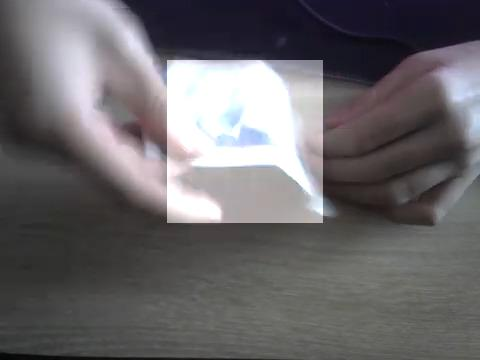20leva: (167, 60, 323, 223)
